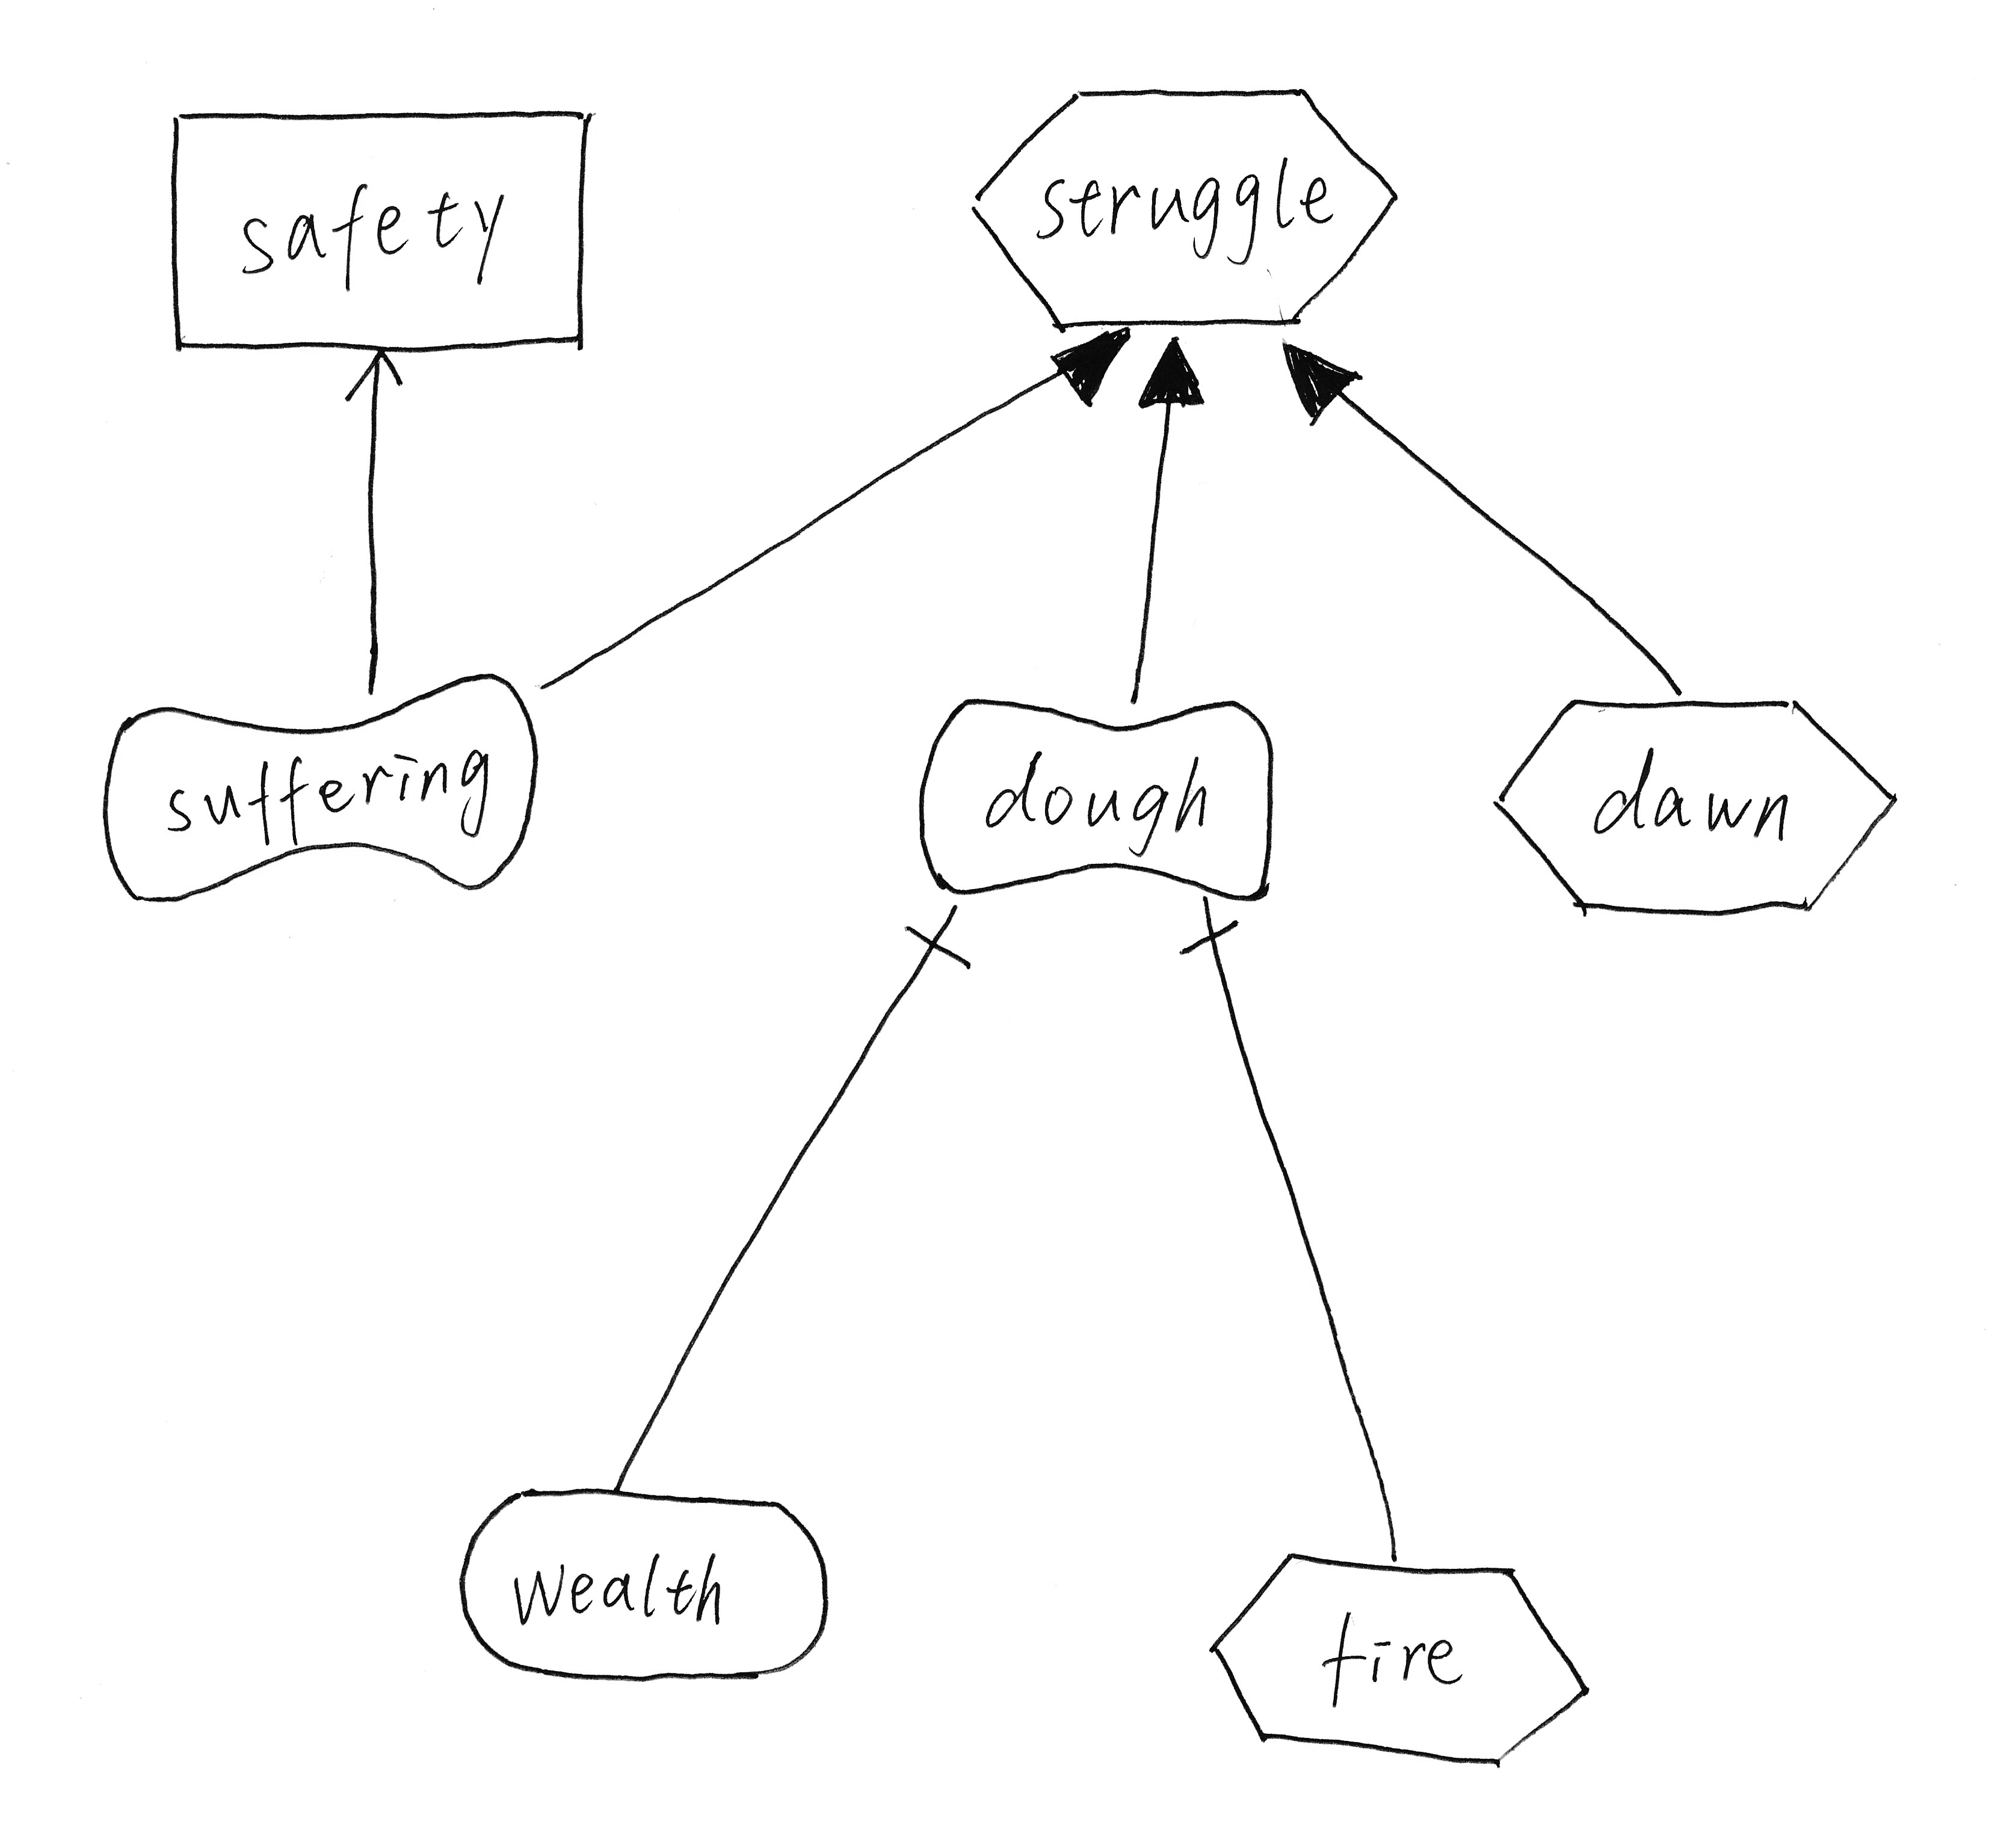and: (884, 879, 995, 993), (1166, 868, 1266, 990)
arrow: (334, 332, 419, 424)
goal: (434, 1461, 855, 1700)
or: (1261, 323, 1384, 431), (1042, 304, 1146, 422), (1131, 314, 1218, 434)
quality: (78, 646, 566, 929), (891, 677, 1296, 934)
resource: (139, 82, 622, 375)
task: (954, 64, 1416, 358), (1482, 676, 1916, 941), (1199, 1525, 1609, 1794)
